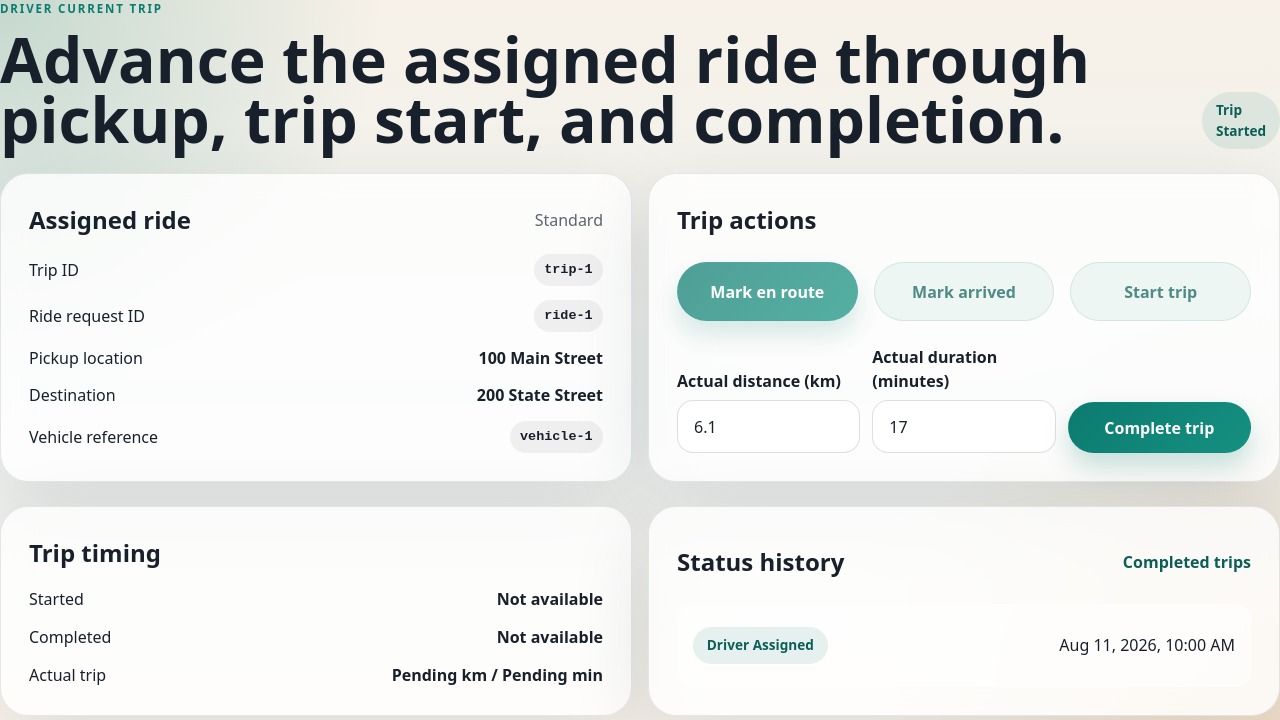
Test: DriverCurrentTripPage › shows validation errors instead of sending an invalid completion payload
Replace the text in the number field labelled "Actual distance (km)" with "0": (769, 427) [677,400,860,453]
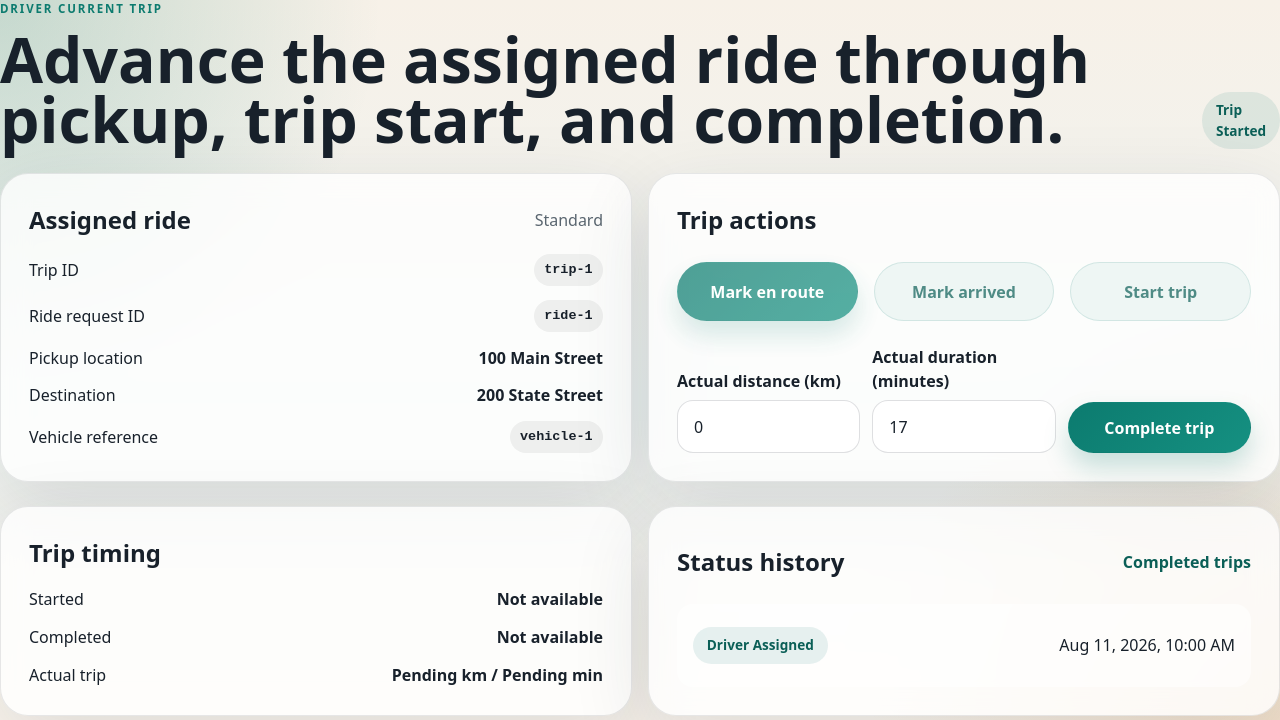
Replace the text in the number field labelled "Actual duration (minutes)" with "0": (964, 427) [872,400,1056,453]
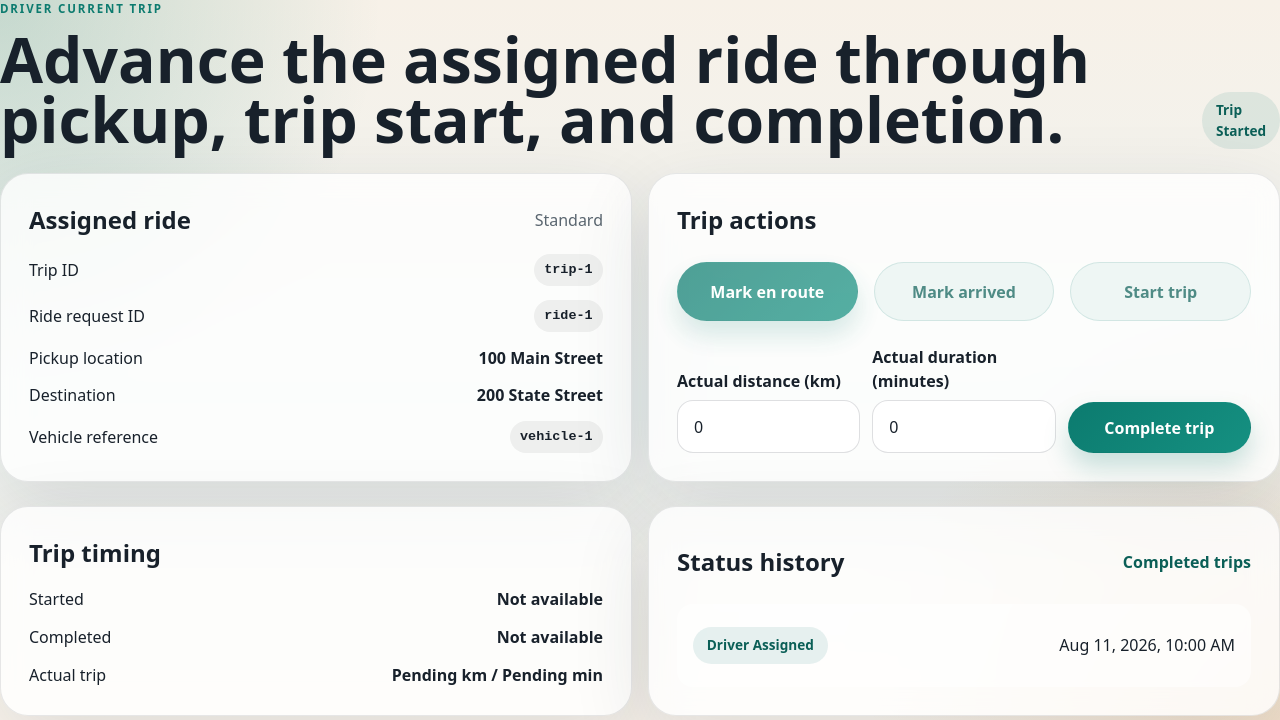
Click the button "Complete trip": click(1159, 428) [1068,402,1251,453]
(page scrolled)
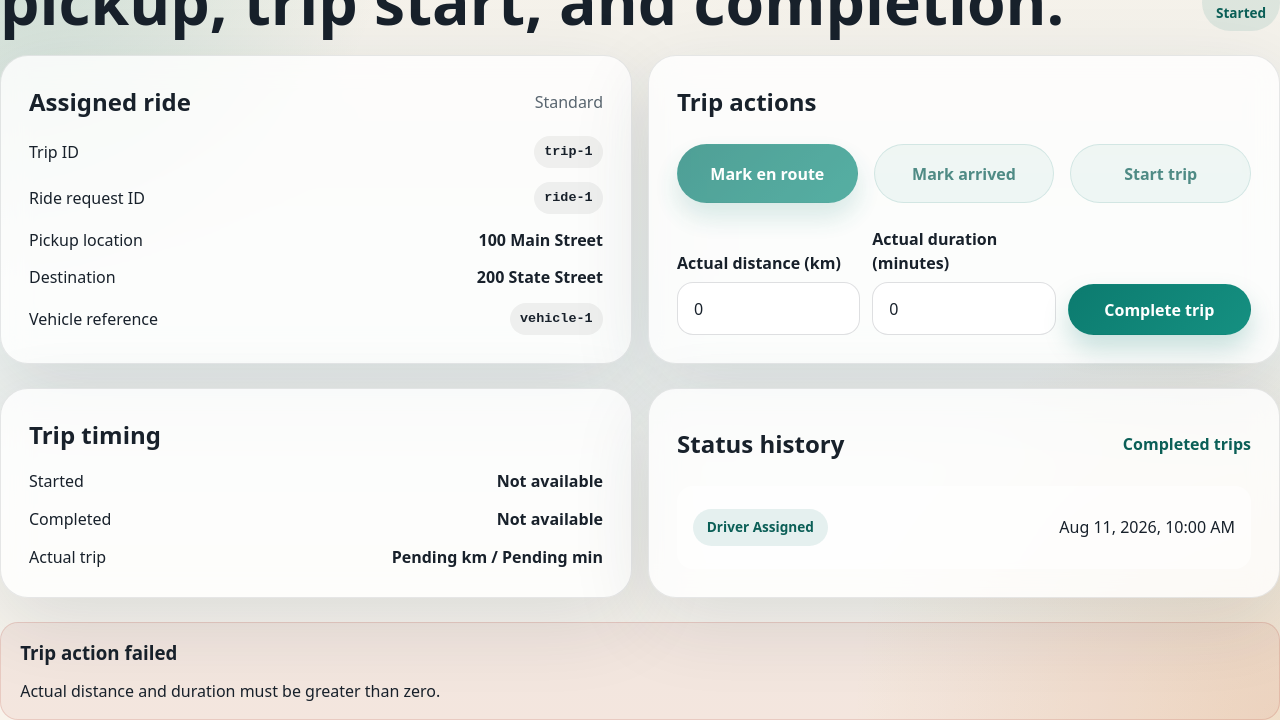
Now the text "Actual distance and duration must be greater than zero." is shown, box [20,680,440,704]
